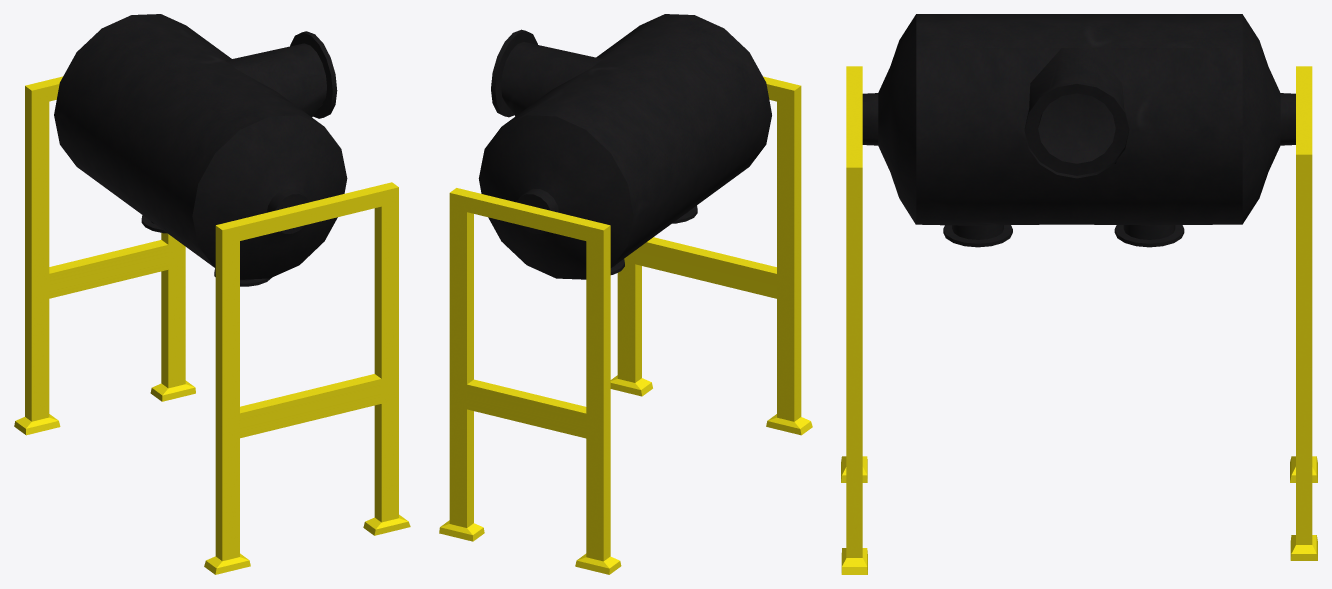
The model's file is tank.fbx.
The picture shows the model from 3 angles, left to right: view 1: azimuth 30°, elevation 25°; view 2: azimuth 150°, elevation 25°; view 3: azimuth 270°, elevation 25°; orthographic projection. The views are drawn at different scales.
Visible parts, largest first — view 1: Tank; view 2: Tank; view 3: Tank.
Boxes of the visible parts, x1,y1,x2,y2 form: Tank: (14,14,410,574); Tank: (439,14,812,574); Tank: (841,14,1317,574).
Size of the model in its own units: 1.68 by 3.36 by 2.94.
